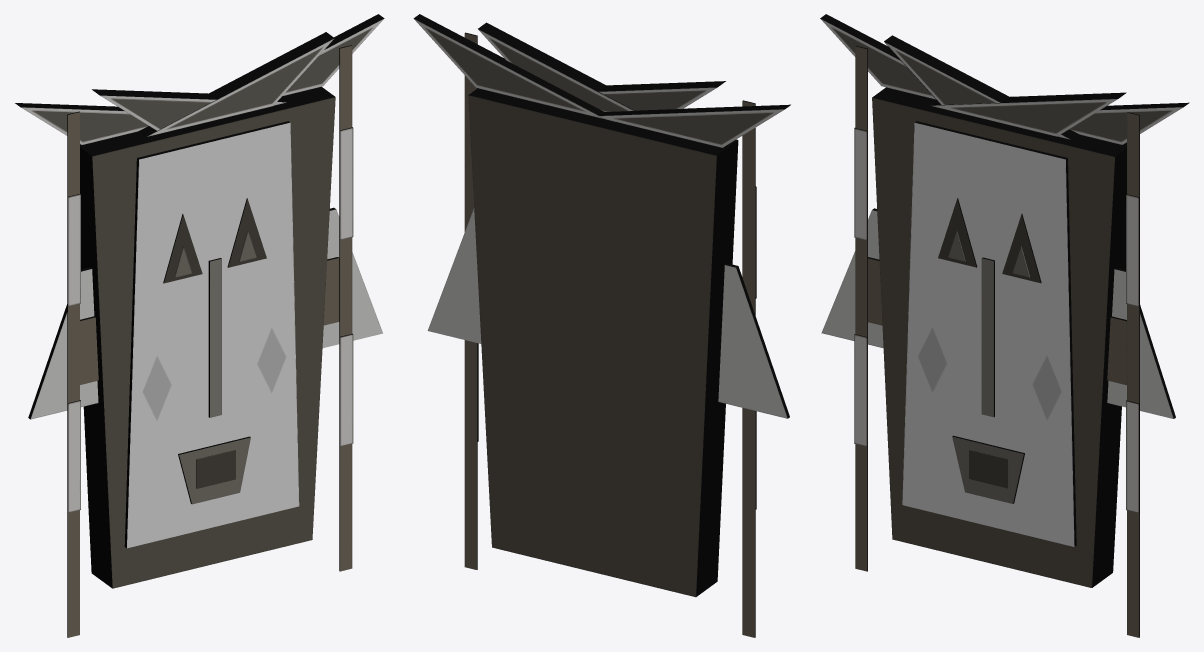
Rendered from Mask3a.fbx.
3 views of the same model, side by side, from view 1: azimuth 30°, elevation 25°; view 2: azimuth 150°, elevation 25°; view 3: azimuth 330°, elevation 25° (orthographic). The views are drawn at different scales.
Visible parts, largest first — view 1: Masks-3a-export; view 2: Masks-3a-export; view 3: Masks-3a-export.
Part boxes in pixels (box(x1,y1,x2,y2)): Masks-3a-export: box(15, 14, 384, 637); Masks-3a-export: box(413, 14, 790, 637); Masks-3a-export: box(820, 14, 1189, 637).
Size of the model in its own units: 105 by 147 by 12.45.
Materials: 1 (1 with a texture image).
